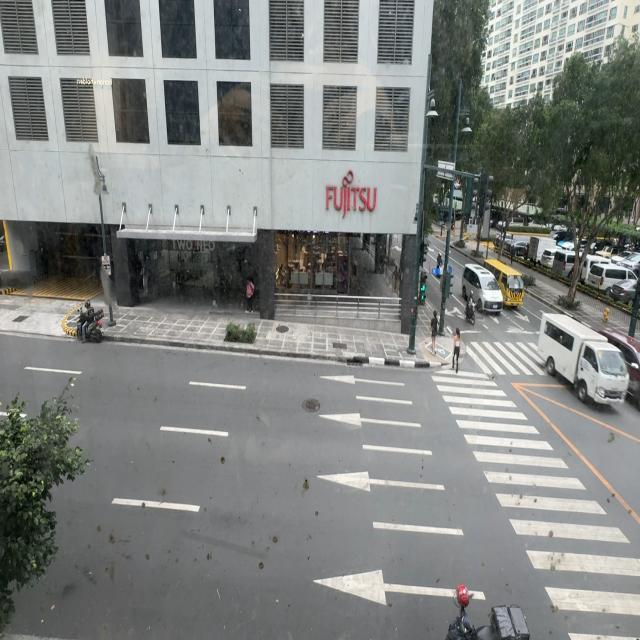crossing: (452, 328, 462, 372), (430, 310, 438, 354)
pedestrain: (246, 276, 254, 314), (142, 261, 148, 294)
